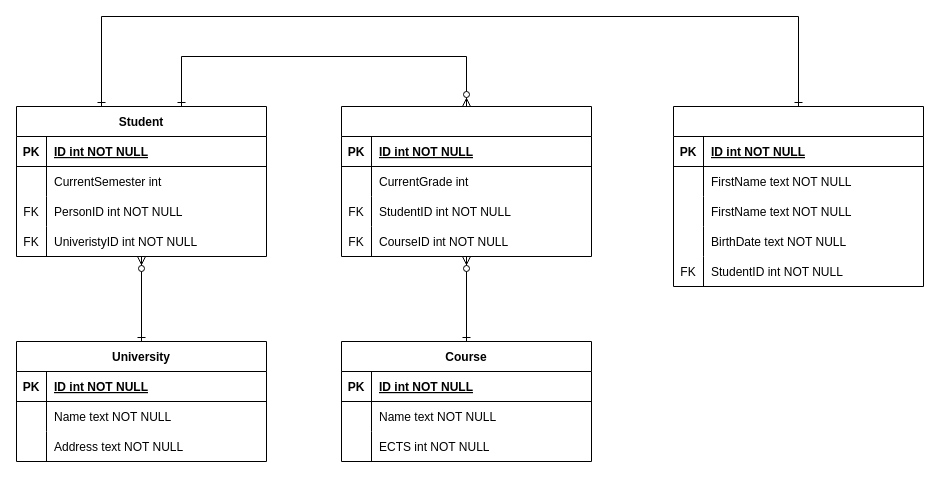
This 940x478 diagram has some shape labels left out. Here are the shapes that lost their labels. From the top down, the box of each, then its label:
(340, 106, 592, 256): StudentCourse
(672, 106, 924, 286): Person
